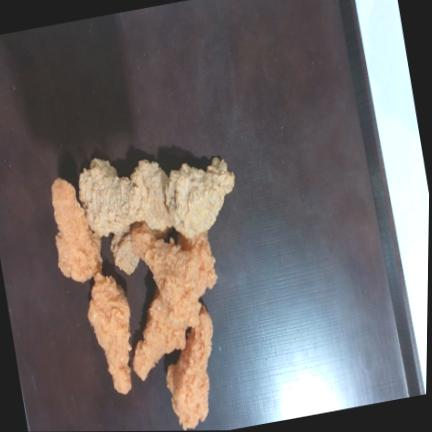chicken: (132, 224, 201, 327), (167, 306, 213, 429), (166, 157, 235, 238), (88, 273, 132, 394), (52, 178, 103, 282), (134, 288, 188, 380), (79, 159, 141, 237)
